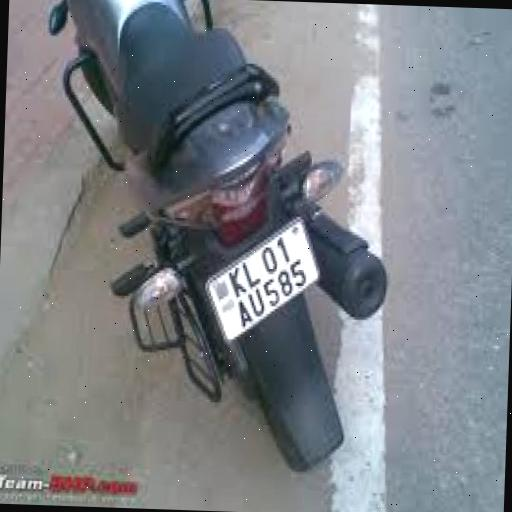number plate: (200, 225, 330, 336)
